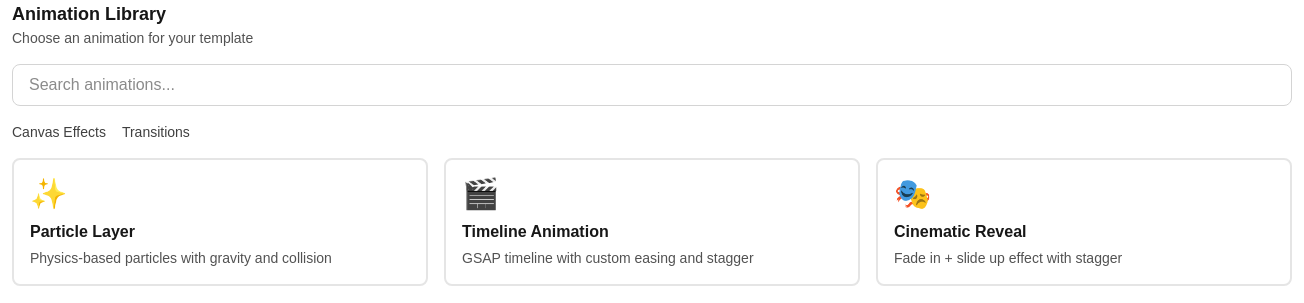
Test: AnimationLibrary Component › Search Functionality › filters animations by search query
The image size is (1304, 303).
Step 1. Type "particle" into the field with placeholder "Search animations..." → (652, 85), box x1=12 y1=64 x2=1292 y2=106
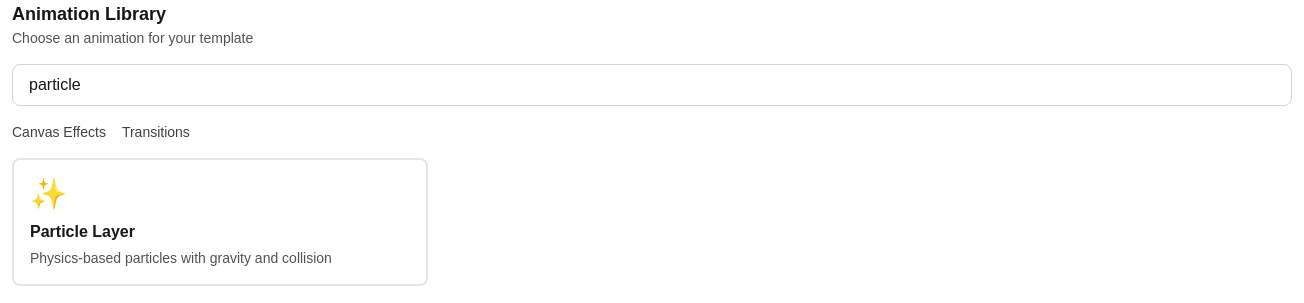
Check: the heading "Particle Layer" is shown, box x1=30 y1=223 x2=135 y2=240
Check: the button "Timeline Animation" is gone
